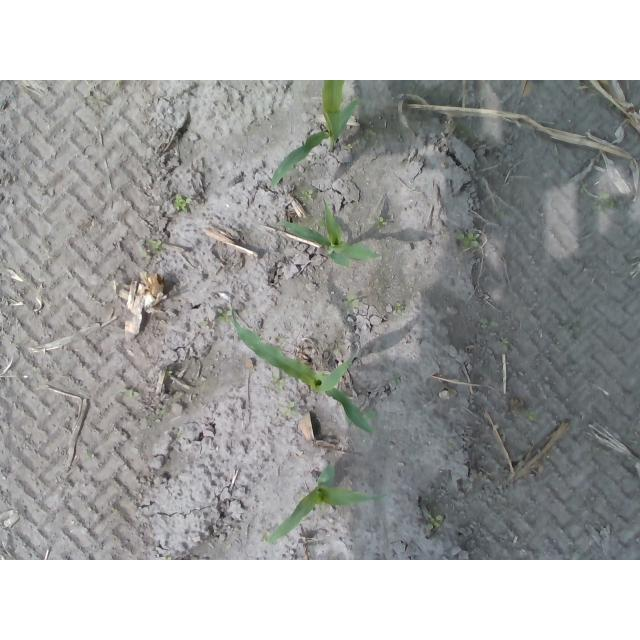Maize: (229, 312, 376, 436), (267, 464, 385, 545), (270, 80, 358, 188), (280, 197, 385, 270)
Weeds: (456, 230, 481, 248), (424, 511, 443, 529), (356, 129, 376, 146), (511, 409, 538, 421), (174, 194, 192, 211), (216, 308, 233, 320), (479, 319, 497, 330), (281, 405, 297, 415), (497, 335, 508, 349), (150, 239, 163, 250), (343, 295, 357, 305), (367, 407, 378, 417), (375, 216, 386, 226), (343, 143, 354, 153), (304, 191, 313, 202), (447, 440, 457, 449), (395, 302, 401, 314), (161, 556, 171, 560)
